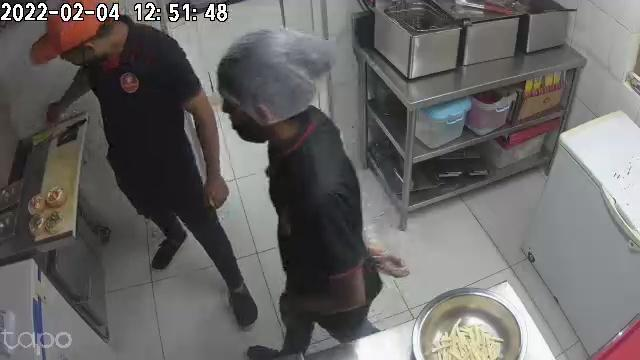no_gloves: (202, 163, 230, 212)
